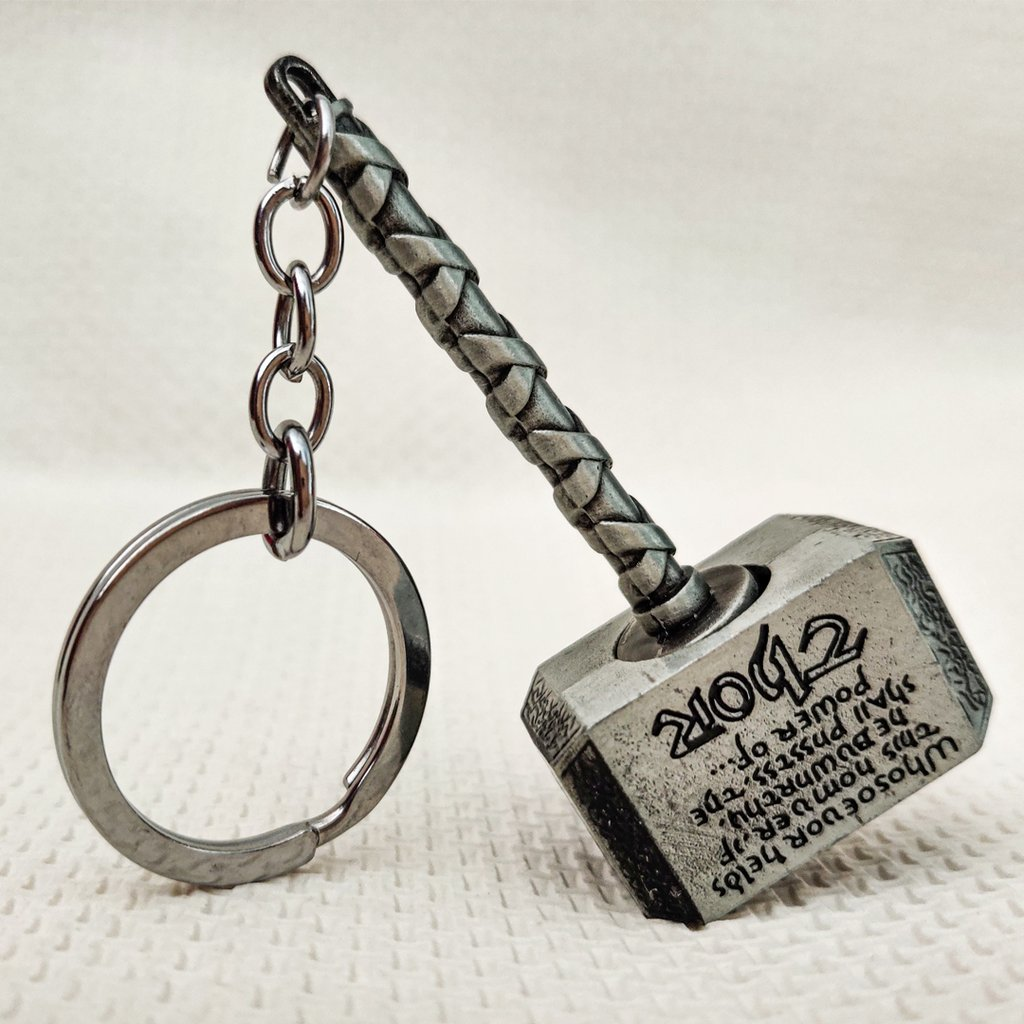THOR Hammer: (259, 42, 992, 925)
